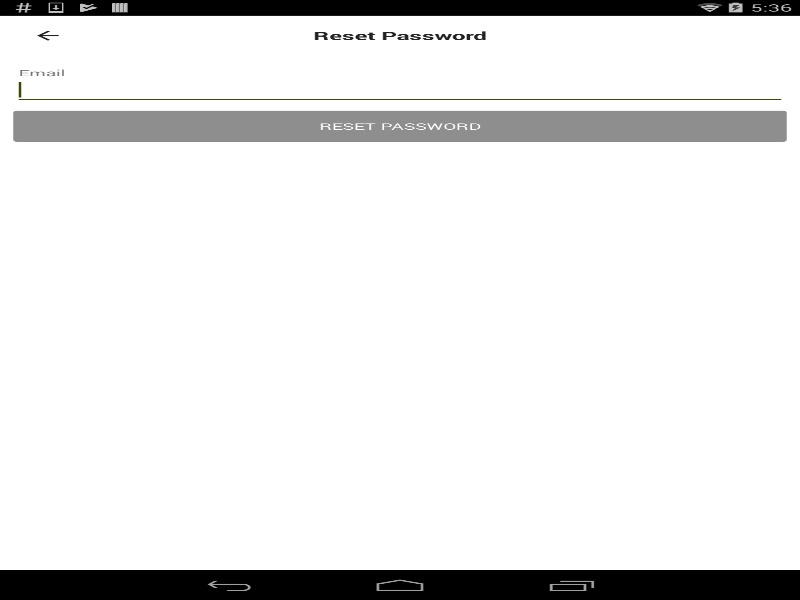Button: (13, 110, 786, 141), (10, 18, 85, 53)
Input: (13, 75, 786, 104)
